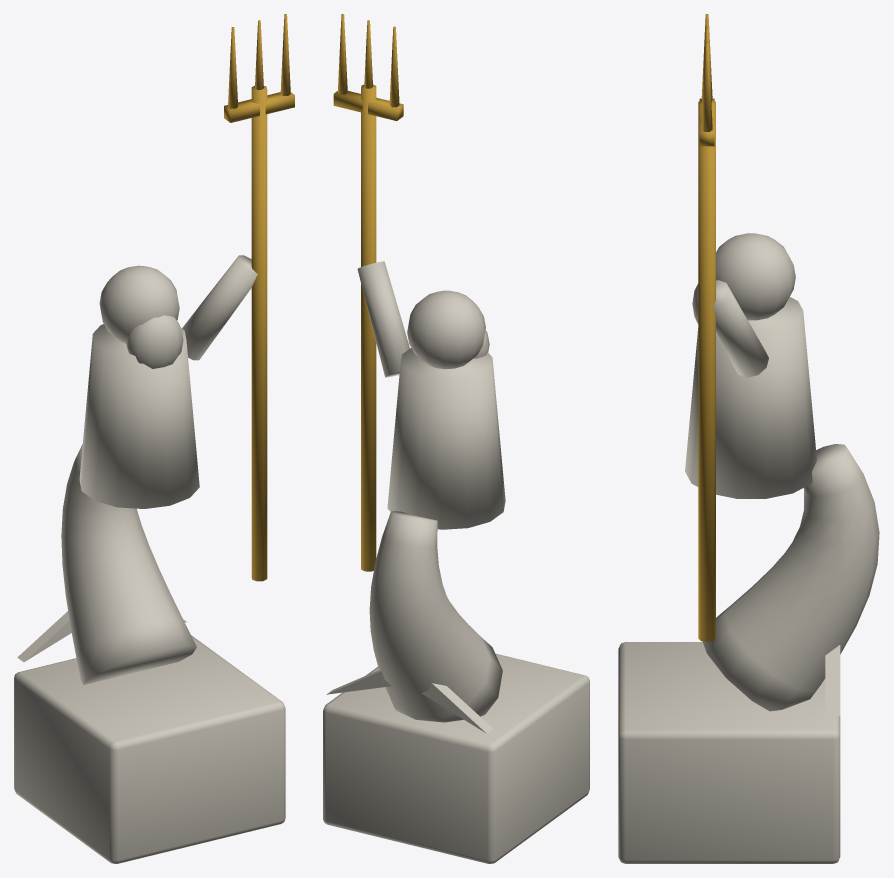
The model's file is statue.glb.
3 views of the same model, side by side, from view 1: azimuth 30°, elevation 25°; view 2: azimuth 150°, elevation 25°; view 3: azimuth 270°, elevation 25° (orthographic). The views are drawn at different scales.
Visible parts, largest first — view 1: Statue; view 2: Statue; view 3: Statue.
Part boxes in pixels (left/top/right/bottom): Statue: left=14, top=14, right=294, bottom=863; Statue: left=323, top=14, right=589, bottom=863; Statue: left=618, top=14, right=879, bottom=863.
Bounding box in the file's own units: 3.75 × 12.6 × 3.53.
